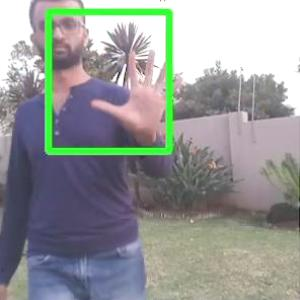follow_hand: (89, 42, 188, 141)
